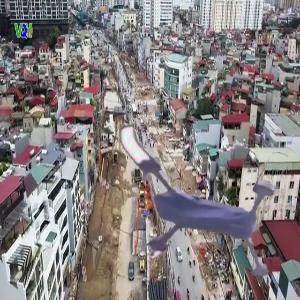drone: (117, 113, 295, 291)
